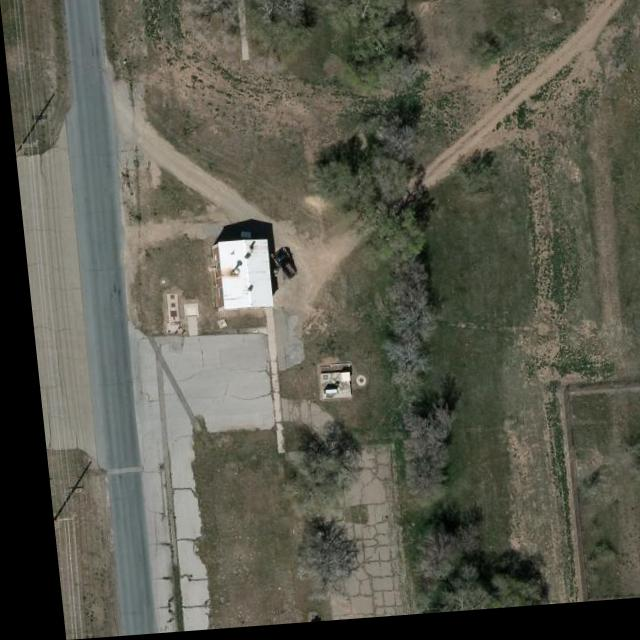vehicle: (268, 252, 292, 286)
